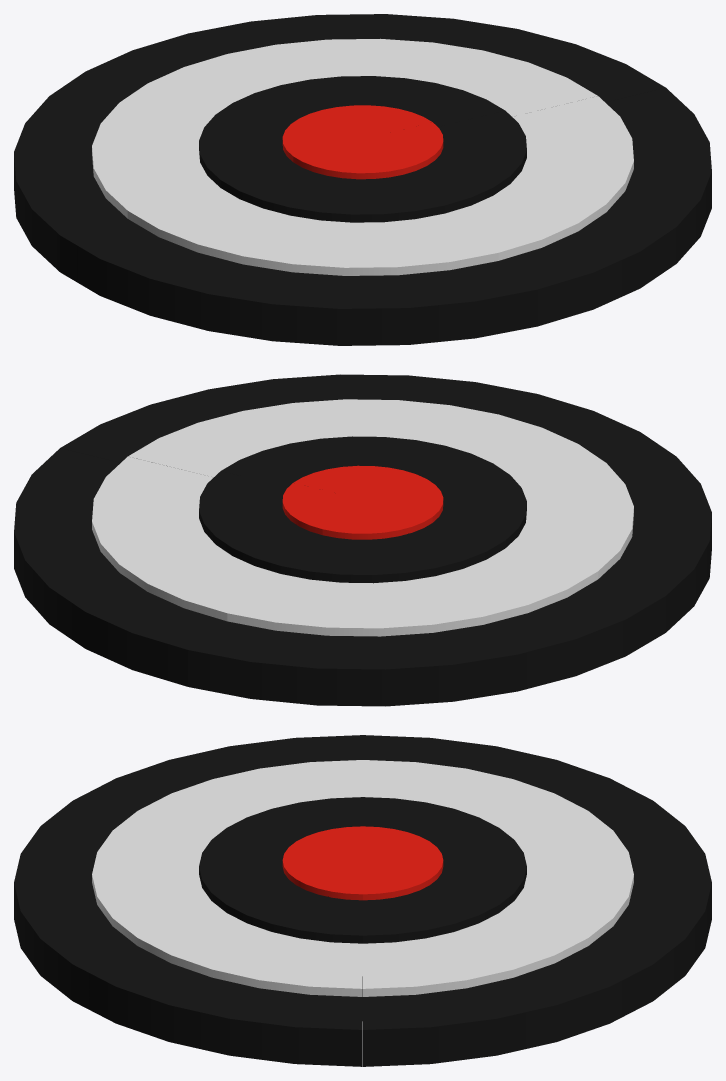
The model's file is targetFragments.fbx.
3 views of the same model, one above another, from view 1: azimuth 30°, elevation 25°; view 2: azimuth 150°, elevation 25°; view 3: azimuth 270°, elevation 25° (orthographic).
Visible parts, largest first — view 1: Broken parts.003, Broken parts.002, Broken parts.004, Broken parts; view 2: Broken parts.004, Broken parts, Broken parts.003, Broken parts.002; view 3: Broken parts, Broken parts.002, Broken parts.003, Broken parts.004.
Part boxes in pixels (box(x1,y1,x2,y2)): Broken parts.003: box(60, 139, 537, 345); Broken parts.002: box(363, 87, 711, 326); Broken parts.004: box(14, 33, 362, 271); Broken parts: box(188, 14, 665, 139); Broken parts.004: box(188, 500, 665, 706); Broken parts: box(14, 448, 362, 686); Broken parts.003: box(363, 394, 711, 632); Broken parts.002: box(60, 374, 537, 499); Broken parts: box(363, 860, 711, 1066); Broken parts.002: box(14, 860, 362, 1066); Broken parts.003: box(14, 735, 362, 882); Broken parts.004: box(363, 735, 711, 882).
Bounding box in the file's own units: 200 × 18.68 × 200.
